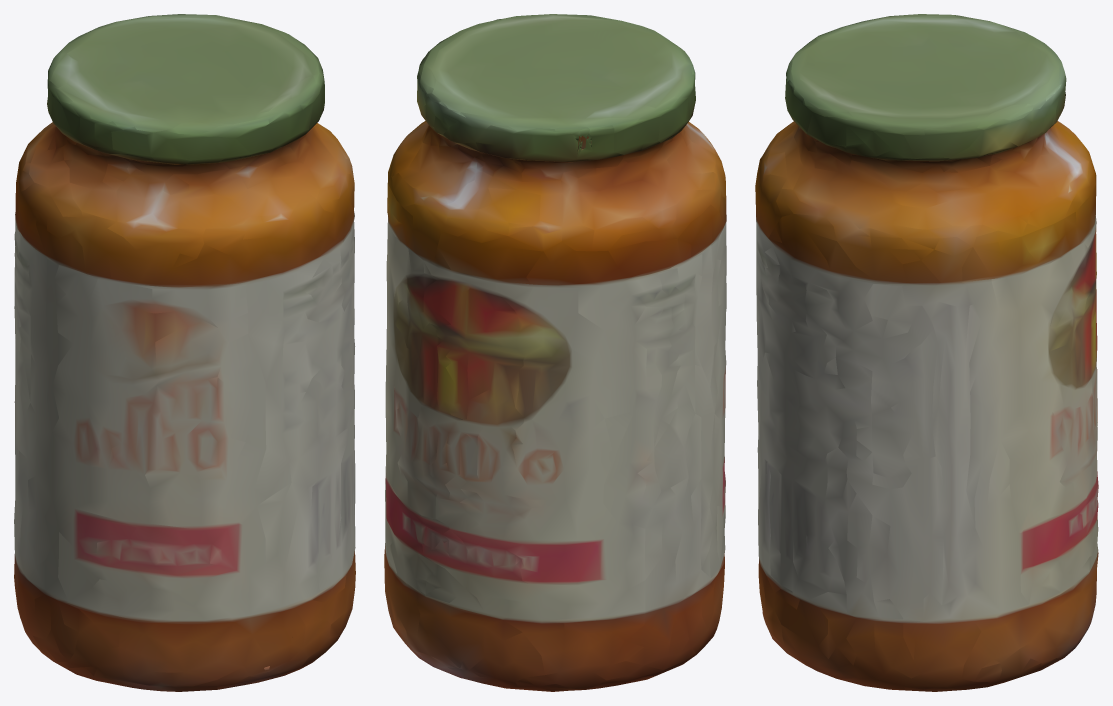
File: 0009_mask_010_sauce_jar.glb
The picture shows the model from 3 angles, left to right: view 1: azimuth 30°, elevation 25°; view 2: azimuth 150°, elevation 25°; view 3: azimuth 270°, elevation 25°; orthographic projection.
Parts seen in each view (by area): view 1: mask_010_object; view 2: mask_010_object; view 3: mask_010_object.
Boxes of the visible parts, <box> form: mask_010_object: <box>14,14,355,691</box>; mask_010_object: <box>384,14,726,691</box>; mask_010_object: <box>755,14,1098,691</box>.
Size of the model in its own units: 0.1674 by 0.3038 by 0.1679.
